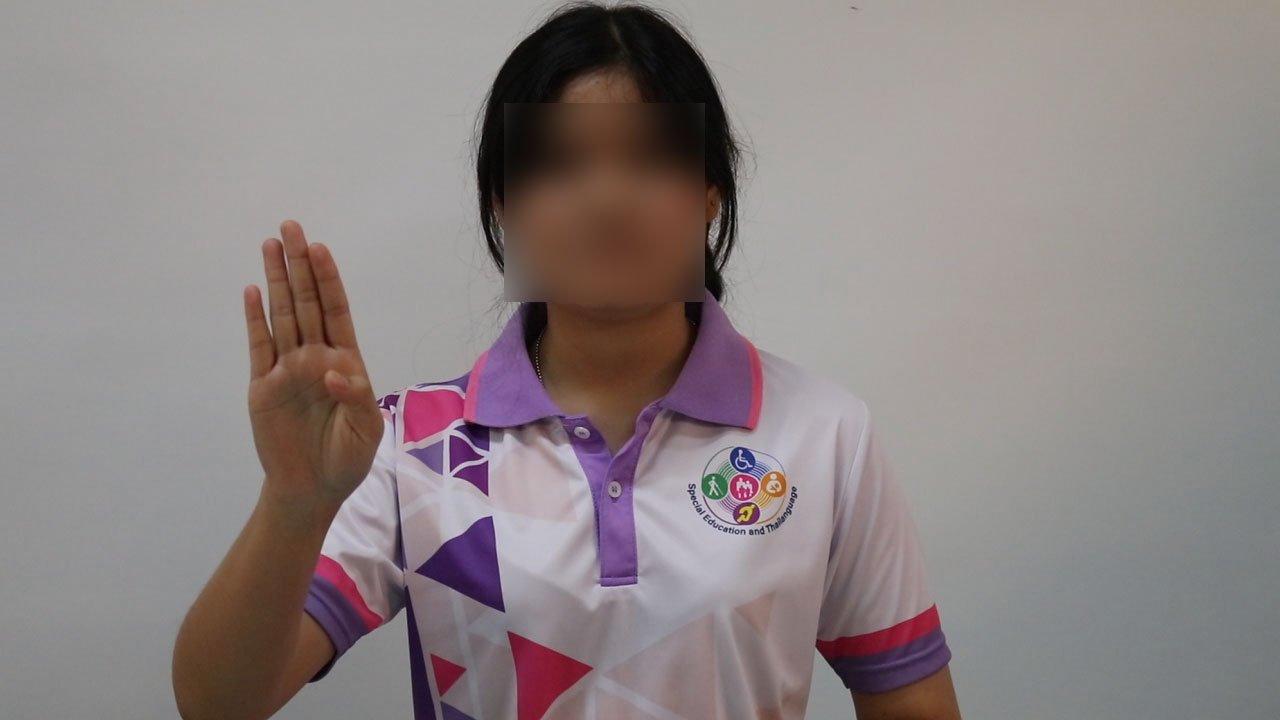bor: (215, 207, 407, 539)
